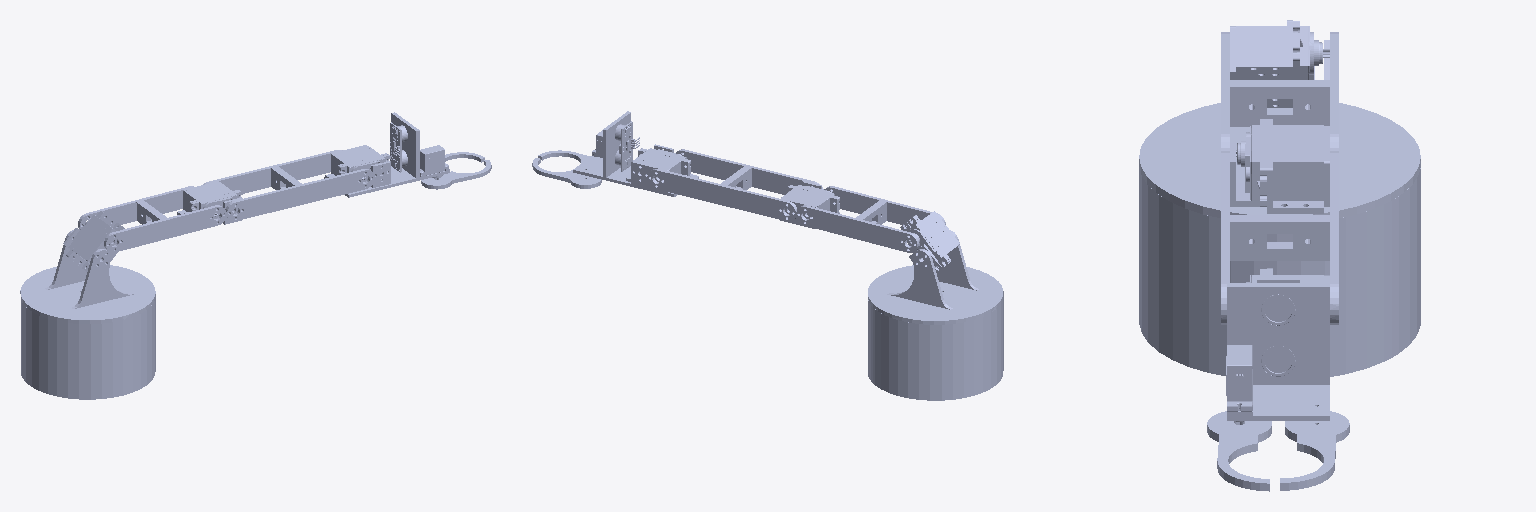
robot.urdf — urdf6:
<?xml version="1.0" encoding="utf-8"?>
<!-- This URDF was automatically created by SolidWorks to URDF Exporter! Originally created by [author] ([email redacted]) 
     Commit Version: 1.6.0-4-g7f85cfe  Build Version: 1.6.7995.38578
     For more information, please see http://wiki.ros.org/sw_urdf_exporter -->
<robot
  name="urdf6">
  <link
    name="base">
    <inertial>
      <origin
        xyz="6.93889390390723E-18 -1.38777878078145E-17 0.04"
        rpy="0 0 0" />
      <mass
        value="0.15707963267949" />
      <inertia
        ixx="0.000391062835524979"
        ixy="1.32161094801461E-35"
        ixz="3.61400724161835E-20"
        iyy="0.000391062835524979"
        iyz="3.61400724161835E-20"
        izz="0.000614574062858503" />
    </inertial>
    <visual>
      <origin
        xyz="0 0 0"
        rpy="0 0 0" />
      <geometry>
        <mesh
          filename="package://urdf6/meshes/base.STL" />
      </geometry>
      <material
        name="">
        <color
          rgba="0.792156862745098 0.819607843137255 0.933333333333333 1" />
      </material>
    </visual>
    <collision>
      <origin
        xyz="0 0 0"
        rpy="0 0 0" />
      <geometry>
        <mesh
          filename="package://urdf6/meshes/base.STL" />
      </geometry>
    </collision>
  </link>
  <link
    name="link1">
    <inertial>
      <origin
        xyz="0.00277146259730909 -0.000977617042753384 0.0245228000881184"
        rpy="0 0 0" />
      <mass
        value="0.103925846321559" />
      <inertia
        ixx="8.06918285332134E-05"
        ixy="2.30972043285664E-07"
        ixz="-1.91801149689529E-06"
        iyy="7.30134500767622E-05"
        iyz="2.74033821025775E-07"
        izz="0.000130206094156465" />
    </inertial>
    <visual>
      <origin
        xyz="0 0 0"
        rpy="0 0 0" />
      <geometry>
        <mesh
          filename="package://urdf6/meshes/link1.STL" />
      </geometry>
      <material
        name="">
        <color
          rgba="0.792156862745098 0.819607843137255 0.933333333333333 1" />
      </material>
    </visual>
    <collision>
      <origin
        xyz="0 0 0"
        rpy="0 0 0" />
      <geometry>
        <mesh
          filename="package://urdf6/meshes/link1.STL" />
      </geometry>
    </collision>
  </link>
  <joint
    name="joint1"
    type="revolute">
    <origin
      xyz="0 0 0.08"
      rpy="0 0 0" />
    <parent
      link="base" />
    <child
      link="link1" />
    <axis
      xyz="0 0 1" />
    <limit
      lower="-3.14"
      upper="3.14"
      effort="2.5"
      velocity="5.7596" />
  </joint>
  <link
    name="link2">
    <inertial>
      <origin
        xyz="0.0569882814444439 0.0009622788925151 -0.0815648422319132"
        rpy="0 0 0" />
      <mass
        value="0.0258099114254627" />
      <inertia
        ixx="1.44174546985462E-05"
        ixy="-1.60169567283109E-07"
        ixz="-1.39546559180765E-21"
        iyy="2.38661985609183E-05"
        iyz="1.08363494980537E-21"
        izz="1.12484016319642E-05" />
    </inertial>
    <visual>
      <origin
        xyz="0 0 0"
        rpy="0 0 0" />
      <geometry>
        <mesh
          filename="package://urdf6/meshes/link2.STL" />
      </geometry>
      <material
        name="">
        <color
          rgba="0.792156862745098 0.819607843137255 0.933333333333333 1" />
      </material>
    </visual>
    <collision>
      <origin
        xyz="0 0 0"
        rpy="0 0 0" />
      <geometry>
        <mesh
          filename="package://urdf6/meshes/link2.STL" />
      </geometry>
    </collision>
  </link>
  <joint
    name="joint2"
    type="revolute">
    <origin
      xyz="0.014245 -0.081565 0.063245"
      rpy="1.5708 0 0" />
    <parent
      link="link1" />
    <child
      link="link2" />
    <axis
      xyz="0 0 -1" />
    <limit
      lower="-3.14"
      upper="3.14"
      effort="2.5"
      velocity="5.7596" />
  </joint>
  <link
    name="link3">
    <inertial>
      <origin
        xyz="0.0462043522363444 -0.000810581763271395 -0.0830187996798989"
        rpy="0 0 0" />
      <mass
        value="0.0698780274239912" />
      <inertia
        ixx="2.44616455959098E-05"
        ixy="-6.95937887884126E-08"
        ixz="-3.5716540021196E-07"
        iyy="4.70197933893478E-05"
        iyz="2.95887691146706E-08"
        izz="2.75333599271166E-05" />
    </inertial>
    <visual>
      <origin
        xyz="0 0 0"
        rpy="0 0 0" />
      <geometry>
        <mesh
          filename="package://urdf6/meshes/link3.STL" />
      </geometry>
      <material
        name="">
        <color
          rgba="0.792156862745098 0.819607843137255 0.933333333333333 1" />
      </material>
    </visual>
    <collision>
      <origin
        xyz="0 0 0"
        rpy="0 0 0" />
      <geometry>
        <mesh
          filename="package://urdf6/meshes/link3.STL" />
      </geometry>
    </collision>
  </link>
  <joint
    name="joint3"
    type="revolute">
    <origin
      xyz="0.11398 0.0019281 0"
      rpy="0 0 0" />
    <parent
      link="link2" />
    <child
      link="link3" />
    <axis
      xyz="0 0 -1" />
    <limit
      lower="-3.14"
      upper="3.14"
      effort="2.5"
      velocity="5.7596" />
  </joint>
  <link
    name="link4">
    <inertial>
      <origin
        xyz="0.0314868755292186 -0.00191709912462854 -0.0807339492540033"
        rpy="0 0 0" />
      <mass
        value="0.0770831625976156" />
      <inertia
        ixx="1.81599660284941E-05"
        ixy="-2.87203989682982E-06"
        ixz="-4.2891953749475E-07"
        iyy="3.64659853031094E-05"
        iyz="5.40034518075012E-08"
        izz="3.35780702482791E-05" />
    </inertial>
    <visual>
      <origin
        xyz="0 0 0"
        rpy="0 0 0" />
      <geometry>
        <mesh
          filename="package://urdf6/meshes/link4.STL" />
      </geometry>
      <material
        name="">
        <color
          rgba="0.792156862745098 0.819607843137255 0.933333333333333 1" />
      </material>
    </visual>
    <collision>
      <origin
        xyz="0 0 0"
        rpy="0 0 0" />
      <geometry>
        <mesh
          filename="package://urdf6/meshes/link4.STL" />
      </geometry>
    </collision>
  </link>
  <joint
    name="joint4"
    type="revolute">
    <origin
      xyz="0.16414 0.00039551 0"
      rpy="0 0 0" />
    <parent
      link="link3" />
    <child
      link="link4" />
    <axis
      xyz="0 0 -1" />
    <limit
      lower="-3.14"
      upper="3.14"
      effort="2.5"
      velocity="5.7596" />
  </joint>
  <link
    name="gripkanan">
    <inertial>
      <origin
        xyz="0.0140530439209312 -0.000742242506167827 0.121368254991141"
        rpy="0 0 0" />
      <mass
        value="0.00468228410417343" />
      <inertia
        ixx="2.3567072390795E-07"
        ixy="2.35409753323601E-08"
        ixz="2.02809343534434E-22"
        iyy="2.0678253754865E-06"
        iyz="8.58515682792956E-24"
        izz="2.29101000844998E-06" />
    </inertial>
    <visual>
      <origin
        xyz="0 0 0"
        rpy="0 0 0" />
      <geometry>
        <mesh
          filename="package://urdf6/meshes/gripkanan.STL" />
      </geometry>
      <material
        name="">
        <color
          rgba="0.792156862745098 0.819607843137255 0.933333333333333 1" />
      </material>
    </visual>
    <collision>
      <origin
        xyz="0 0 0"
        rpy="0 0 0" />
      <geometry>
        <mesh
          filename="package://urdf6/meshes/gripkanan.STL" />
      </geometry>
    </collision>
  </link>
  <joint
    name="ggripkanan"
    type="revolute">
    <origin
      xyz="0.083475 -0.14557 -0.062915"
      rpy="-1.5708 0 0" />
    <parent
      link="link4" />
    <child
      link="gripkanan" />
    <axis
      xyz="0 0 1" />
    <limit
      lower="-3.14"
      upper="3.14"
      effort="0.21575"
      velocity="10.47" />
  </joint>
  <link
    name="endkanan">
    <inertial>
      <origin
        xyz="-0.279008835760687 -0.017317801262114 0.097407261122945"
        rpy="0 0 0" />
      <mass
        value="0.443141170884827" />
      <inertia
        ixx="0.00150079390938389"
        ixy="1.44638395046674E-05"
        ixz="-0.00191993821360237"
        iyy="0.00931326859297631"
        iyz="2.43274301975088E-06"
        izz="0.00867139377566227" />
    </inertial>
    <visual>
      <origin
        xyz="0 0 0"
        rpy="0 0 0" />
      <geometry>
        <mesh
          filename="package://urdf6/meshes/endkanan.STL" />
      </geometry>
      <material
        name="">
        <color
          rgba="1 1 1 1" />
      </material>
    </visual>
    <collision>
      <origin
        xyz="0 0 0"
        rpy="0 0 0" />
      <geometry>
        <mesh
          filename="package://urdf6/meshes/endkanan.STL" />
      </geometry>
    </collision>
  </link>
  <joint
    name="endkanan"
    type="fixed">
    <origin
      xyz="5E-05 0.0358 0"
      rpy="0 0 0" />
    <parent
      link="gripkanan" />
    <child
      link="endkanan" />
    <axis
      xyz="0 0 0" />
  </joint>
  <link
    name="gripkiri">
    <inertial>
      <origin
        xyz="0.0140725750696395 3.99786310258526E-05 0.12136825499114"
        rpy="0 0 0" />
      <mass
        value="0.00468228410417343" />
      <inertia
        ixx="2.37887235512241E-07"
        ixy="6.78988706974306E-08"
        ixz="-1.20128099076663E-24"
        iyy="2.06560886388221E-06"
        iyz="1.99074862869995E-23"
        izz="2.29101000844998E-06" />
    </inertial>
    <visual>
      <origin
        xyz="0 0 0"
        rpy="0 0 0" />
      <geometry>
        <mesh
          filename="package://urdf6/meshes/gripkiri.STL" />
      </geometry>
      <material
        name="">
        <color
          rgba="0.792156862745098 0.819607843137255 0.933333333333333 1" />
      </material>
    </visual>
    <collision>
      <origin
        xyz="0 0 0"
        rpy="0 0 0" />
      <geometry>
        <mesh
          filename="package://urdf6/meshes/gripkiri.STL" />
      </geometry>
    </collision>
  </link>
  <joint
    name="ggripkiri"
    type="revolute">
    <origin
      xyz="0.083525 -0.14557 -0.098715"
      rpy="-1.5708 0 0" />
    <parent
      link="link4" />
    <child
      link="gripkiri" />
    <axis
      xyz="0 0 1" />
    <limit
      lower="-3.14"
      upper="3.14"
      effort="0.21575"
      velocity="10.47" />
  </joint>
  <link
    name="endkiri">
    <inertial>
      <origin
        xyz="-0.050616267161923 0.0172549050247114 0.12136825499114"
        rpy="0 0 0" />
      <mass
        value="0.00468228410417343" />
      <inertia
        ixx="2.37887235512241E-07"
        ixy="6.78988706974306E-08"
        ixz="4.22525721615412E-22"
        iyy="2.06560886388221E-06"
        iyz="-5.7351690057587E-23"
        izz="2.29101000844998E-06" />
    </inertial>
    <visual>
      <origin
        xyz="0 0 0"
        rpy="0 0 0" />
      <geometry>
        <mesh
          filename="package://urdf6/meshes/endkiri.STL" />
      </geometry>
      <material
        name="">
        <color
          rgba="0.792156862745098 0.819607843137255 0.933333333333333 1" />
      </material>
    </visual>
    <collision>
      <origin
        xyz="0 0 0"
        rpy="0 0 0" />
      <geometry>
        <mesh
          filename="package://urdf6/meshes/endkiri.STL" />
      </geometry>
    </collision>
  </link>
  <joint
    name="endkiri"
    type="fixed">
    <origin
      xyz="0.064689 -0.017215 0"
      rpy="0 0 0" />
    <parent
      link="gripkiri" />
    <child
      link="endkiri" />
    <axis
      xyz="0 0 0" />
  </joint>
</robot>

--- Render facts (derived) ---
The picture shows the robot from 3 angles, left to right: view 1: azimuth 30°, elevation 25°; view 2: azimuth 150°, elevation 25°; view 3: azimuth 270°, elevation 25°; orthographic projection.
Model urdf6 with 9 links and 8 joints (6 revolute, 2 fixed), rooted at base, posed all joints at 0.
Visible links, largest first — view 1: base, link1, link3, link4, link2, gripkanan; view 2: base, link1, link3, link2, link4; view 3: base, link1, link3, link4, link2, gripkanan, endkiri, gripkiri.
Boxes of the visible links, <box> form: base: <box>21,298,155,399</box>; link1: <box>20,210,155,323</box>; link3: <box>177,150,374,224</box>; link4: <box>324,112,449,197</box>; link2: <box>78,186,226,252</box>; gripkanan: <box>421,160,491,189</box>; base: <box>868,295,1003,400</box>; link1: <box>868,211,1003,324</box>; link3: <box>647,149,839,228</box>; link2: <box>796,186,945,252</box>; link4: <box>573,111,698,196</box>; base: <box>1139,168,1420,376</box>; link1: <box>1139,20,1420,217</box>; link3: <box>1221,119,1338,324</box>; link4: <box>1226,268,1329,424</box>; link2: <box>1221,32,1338,150</box>; gripkanan: <box>1207,411,1271,491</box>; endkiri: <box>1280,411,1349,490</box>; gripkiri: <box>1280,411,1349,482</box>.
Size in the robot's own frame: 0.5062 by 0.13 by 0.1826 metres.
8 mesh visuals loaded from 9 distinct referenced files (8 binary STL); not drawn: 1 (file found but could not be loaded).